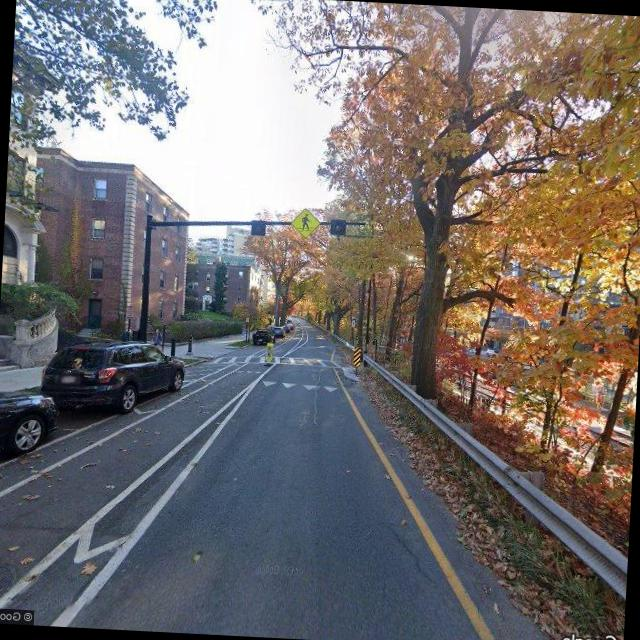pothole: (386, 522, 442, 586)
